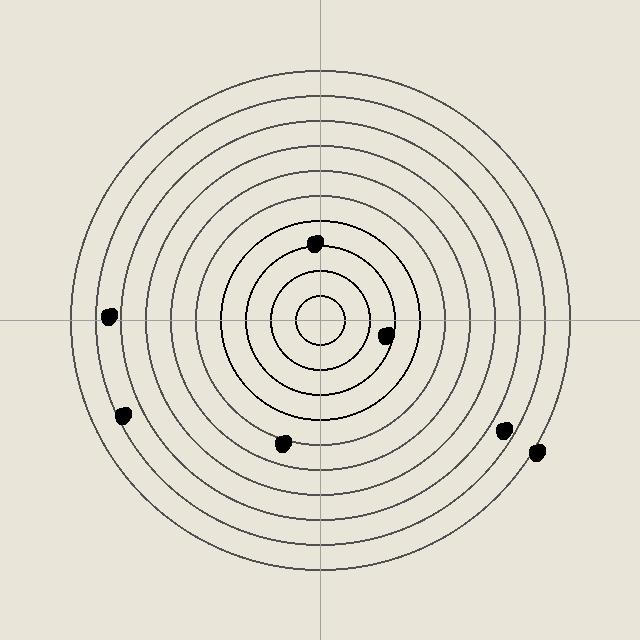random_scatter: (272, 433, 292, 453), (98, 306, 118, 326), (112, 405, 132, 425), (493, 420, 513, 440), (304, 233, 324, 253), (526, 442, 546, 462), (375, 325, 395, 345)
